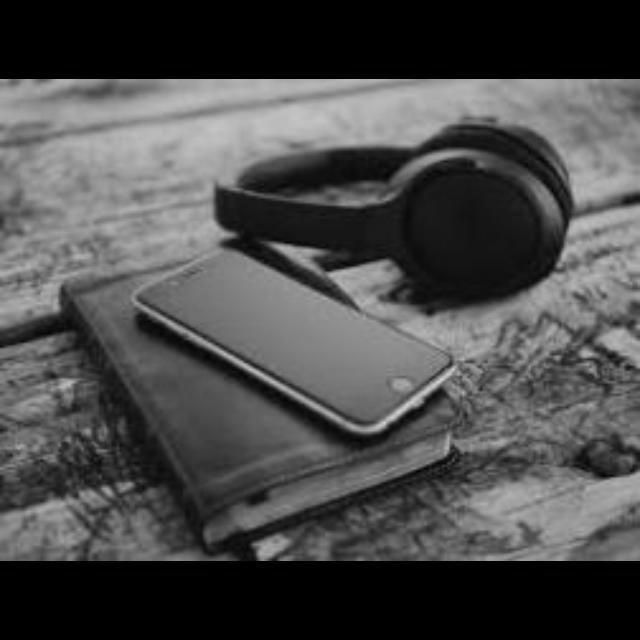fake: (131, 236, 473, 436)
